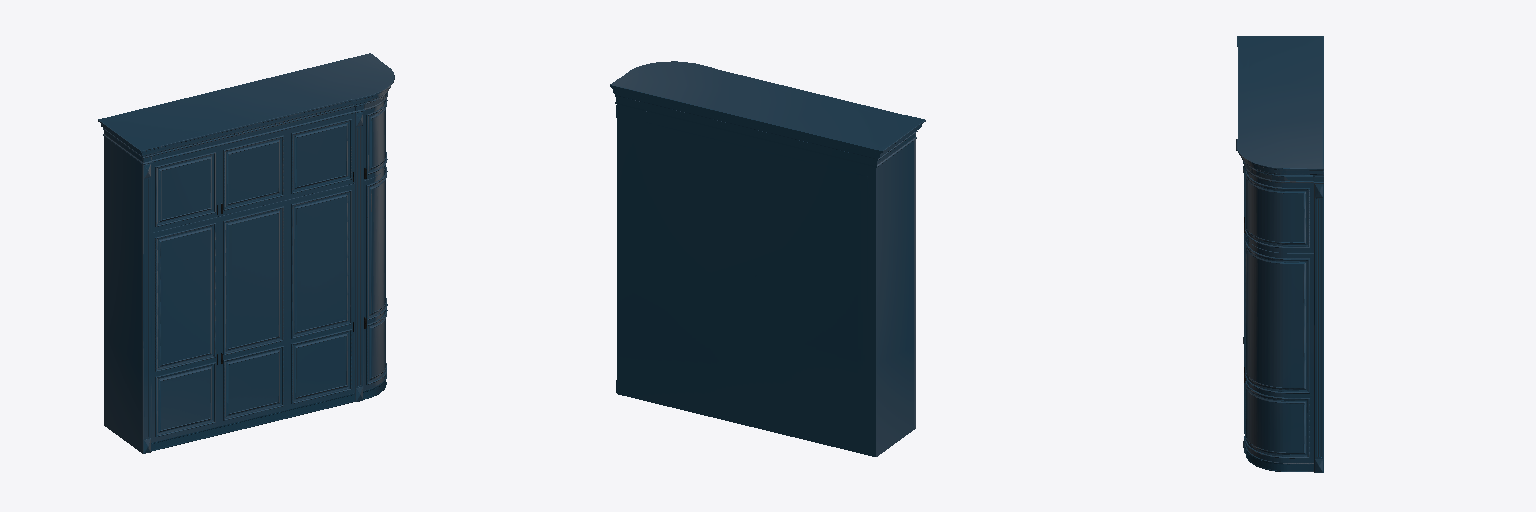
3 renders of one model, left to right at view 1: azimuth 30°, elevation 25°; view 2: azimuth 150°, elevation 25°; view 3: azimuth 270°, elevation 25°, orthographic.
Visible parts, largest first — view 1: solid_001; view 2: solid_001; view 3: solid_001.
Part boxes in pixels (bbox=[...]): solid_001: bbox=[98, 53, 394, 453]; solid_001: bbox=[610, 61, 925, 456]; solid_001: bbox=[1236, 36, 1323, 472].
Bounding box in the file's own units: 1.27 × 1.37 × 0.3504.
Materials: 1 (1 with a texture image).